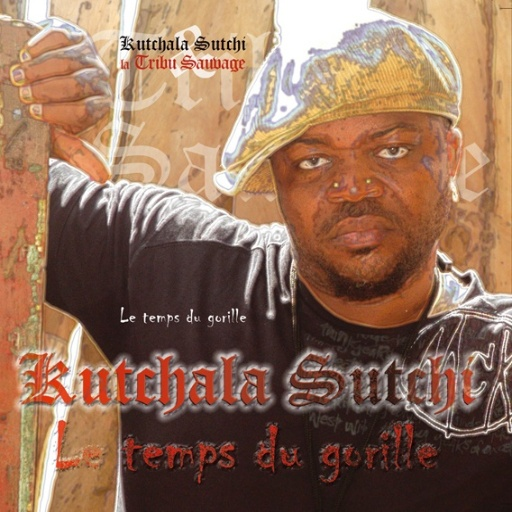hand: (10, 21, 101, 132)
